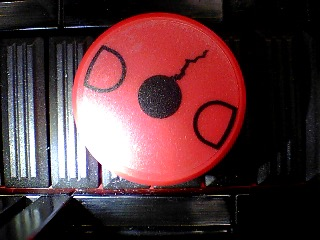CRACK: (71, 12, 246, 187)
